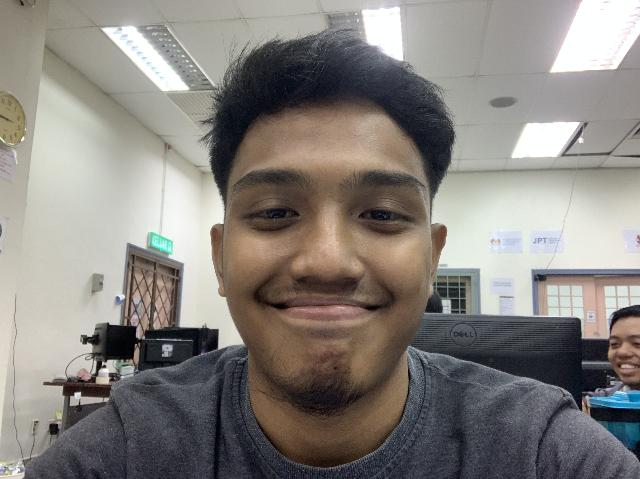senang: (217, 63, 440, 401)
